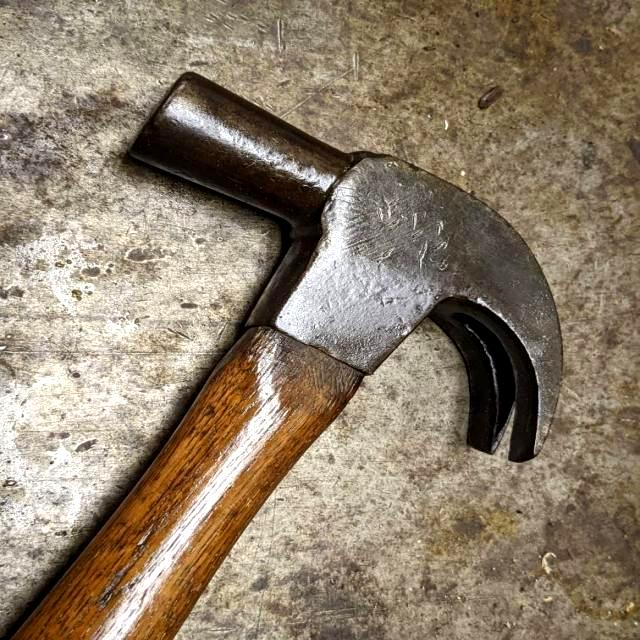hammer: (6, 65, 574, 640)
